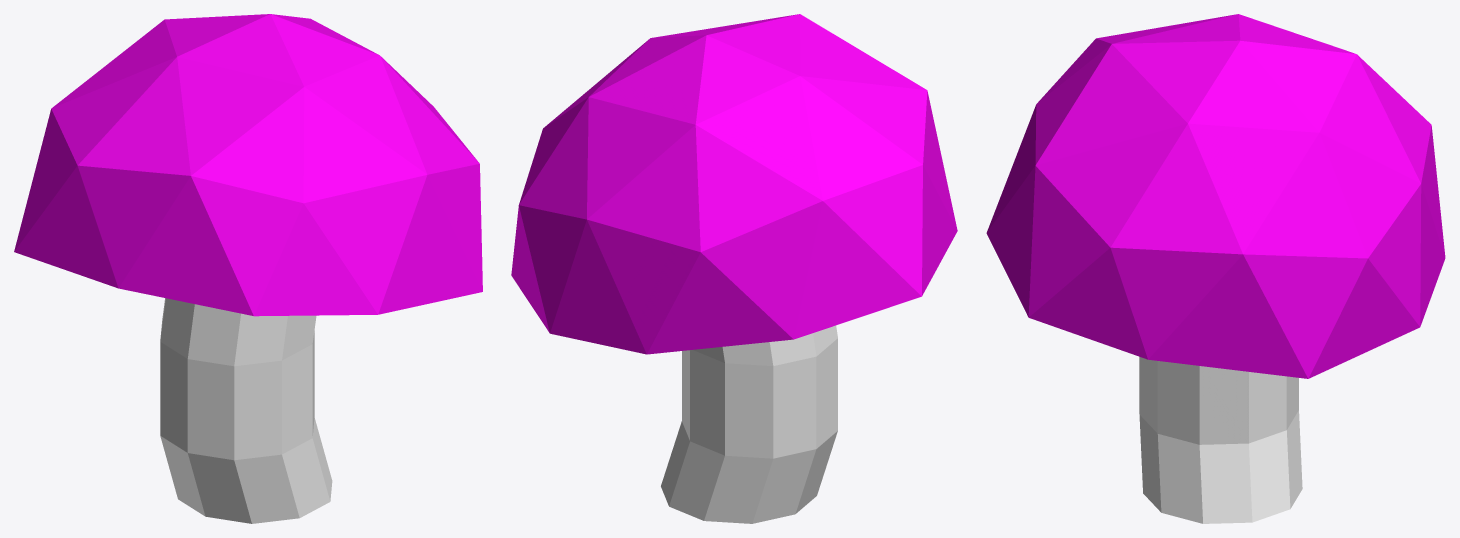
The model's file is Mushroom_2b.fbx.
3 views of the same model, side by side, from view 1: azimuth 30°, elevation 25°; view 2: azimuth 150°, elevation 25°; view 3: azimuth 270°, elevation 25° (orthographic).
Visible parts, largest first — view 1: Mushroom_2b; view 2: Mushroom_2b; view 3: Mushroom_2b.
Part boxes in pixels (<box>): Mushroom_2b: <box>14,14,482,523</box>; Mushroom_2b: <box>511,14,957,523</box>; Mushroom_2b: <box>986,14,1445,523</box>.
Size of the model in its own units: 46.95 by 51.7 by 46.53.
